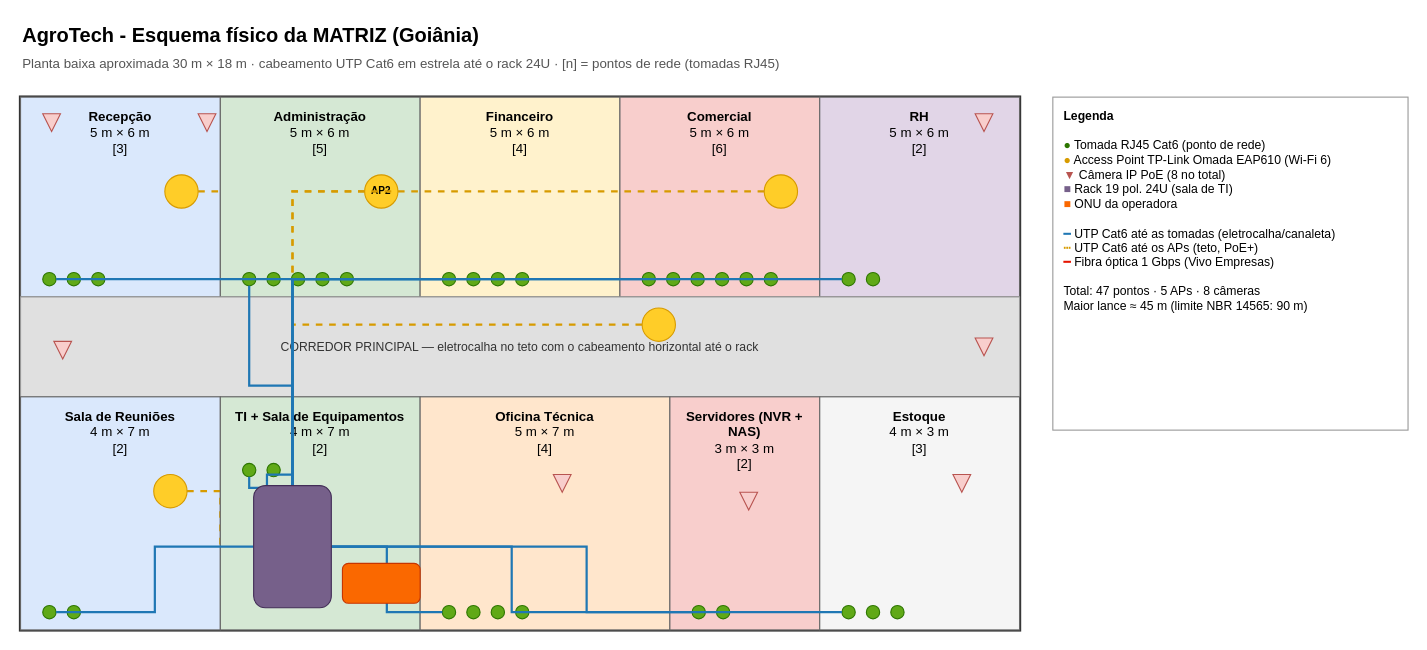
The diagram is 1427 pixels wide and 650 high, and some of its shapes have lost their labels. The centre of each missing label's shape, as x and y in pixels:
AP1: the point at 181,191
AP3: the point at 780,191
AP4: the point at 658,324
AP5: the point at 170,490
ONU Vivo fibra 1 Gbps: the point at 380,582
RACK 24U patch panels switches pfSense servidor nobreak: the point at 292,546
